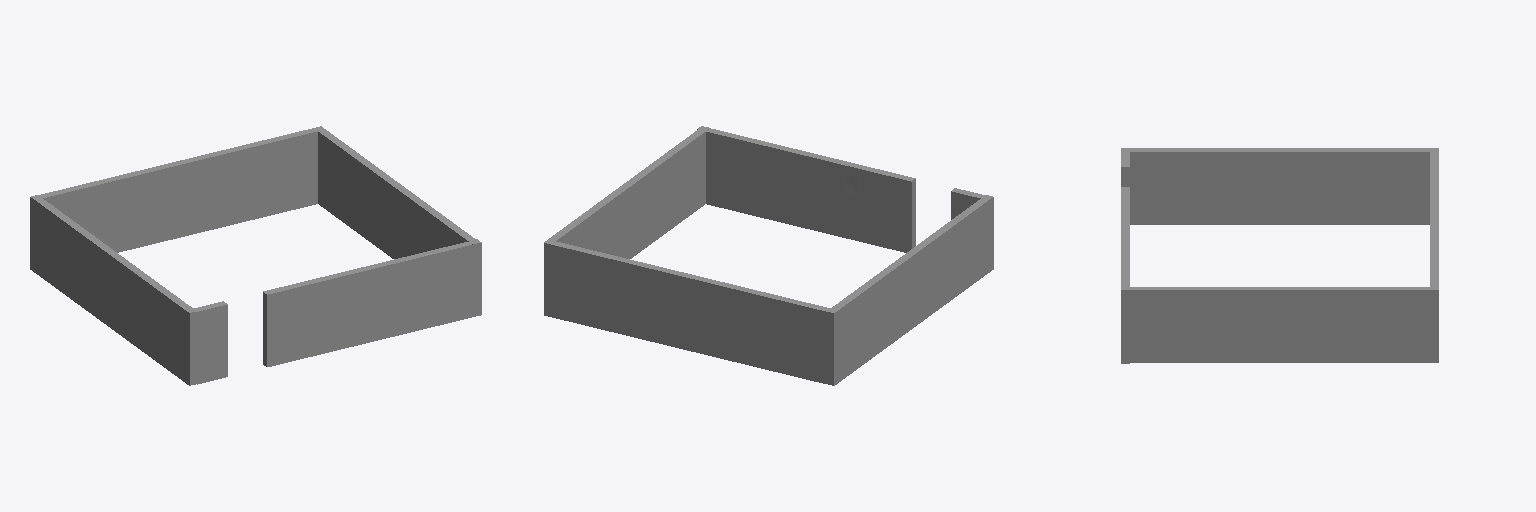
File: wall.obj
3 views of the same model, side by side, from view 1: azimuth 30°, elevation 25°; view 2: azimuth 150°, elevation 25°; view 3: azimuth 270°, elevation 25° (orthographic).
Visible parts, largest first — view 1: Zed.001_Cube.008; view 2: Zed.001_Cube.008; view 3: Zed.001_Cube.008.
Part boxes in pixels (x1,y1,x2,y2): Zed.001_Cube.008: (30,126,481,385); Zed.001_Cube.008: (544,126,993,385); Zed.001_Cube.008: (1121,148,1438,363).
Size of the model in its own units: 19.07 by 4.57 by 18.01.